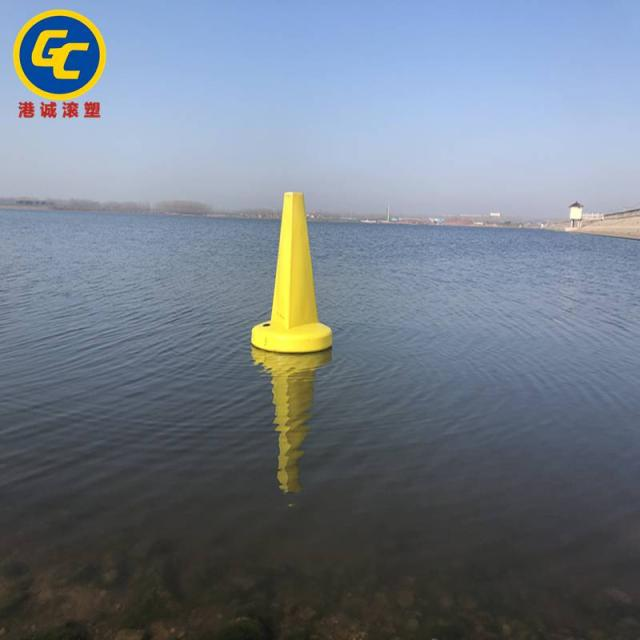buoy: (252, 186, 336, 356)
